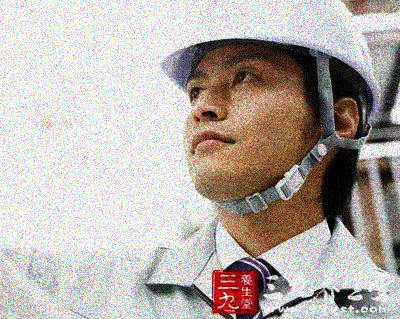helmet: (158, 1, 382, 202)
